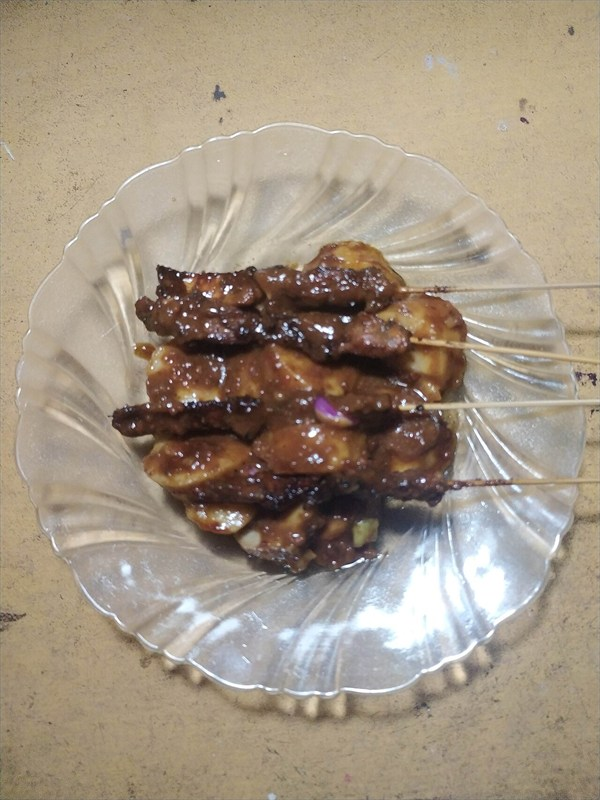Sate Ayam: (125, 239, 494, 655)
